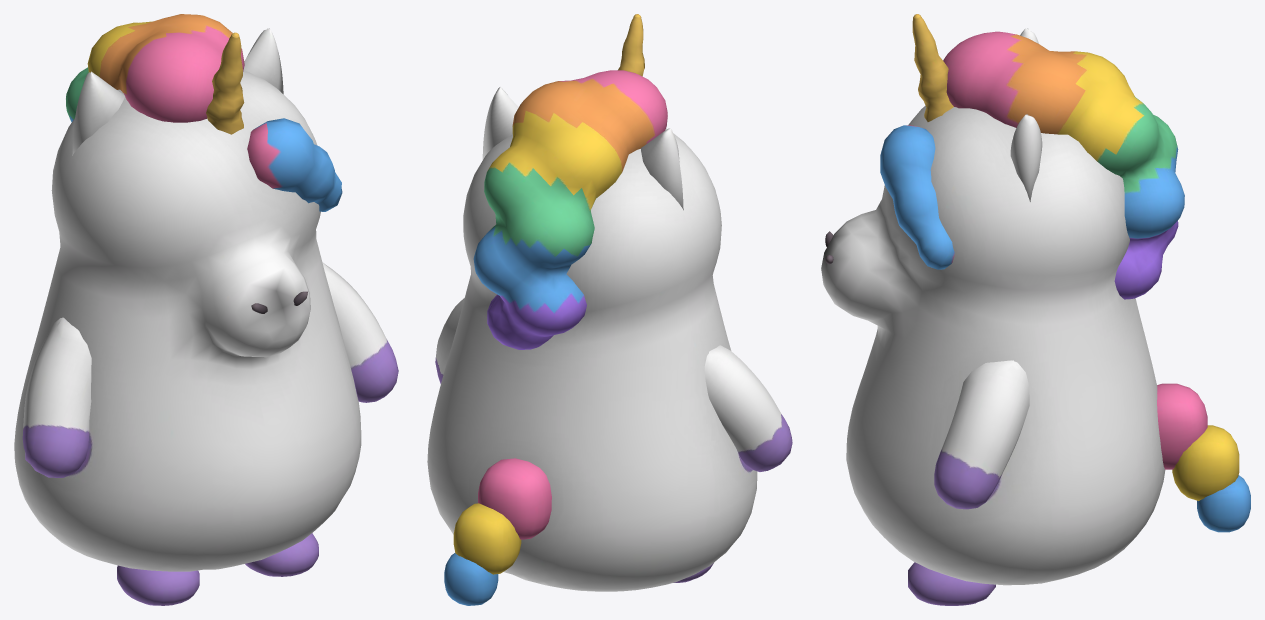
File: unicornio.glb
3 renders of one model, left to right at view 1: azimuth 30°, elevation 25°; view 2: azimuth 150°, elevation 25°; view 3: azimuth 270°, elevation 25°, orthographic. The views are drawn at different scales.
Parts seen in each view (by area): view 1: cuerpo, cabeza, brazoI, brazoD, orejaI, orejaD; view 2: cuerpo, cabeza, brazoI, orejaI, orejaD, brazoD; view 3: cuerpo, cabeza, brazoD, orejaD.
Part boxes in pixels (<box>): cuerpo: <box>14,70,361,605</box>; cabeza: <box>66,14,342,313</box>; brazoI: <box>22,317,91,477</box>; brazoD: <box>322,262,398,402</box>; orejaI: <box>72,71,125,155</box>; orejaD: <box>243,28,283,94</box>; cuerpo: <box>427,128,757,605</box>; cabeza: <box>473,14,667,349</box>; brazoI: <box>704,345,792,471</box>; orejaI: <box>641,128,683,210</box>; orejaD: <box>482,87,518,159</box>; brazoD: <box>435,298,464,383</box>; cuerpo: <box>821,106,1250,605</box>; cabeza: <box>825,14,1184,299</box>; brazoD: <box>934,360,1029,509</box>; orejaD: <box>1010,114,1042,201</box>.
Size of the model in its own units: 1.85 by 2.7 by 1.9.
Materials: 10 (10 with a texture image).
